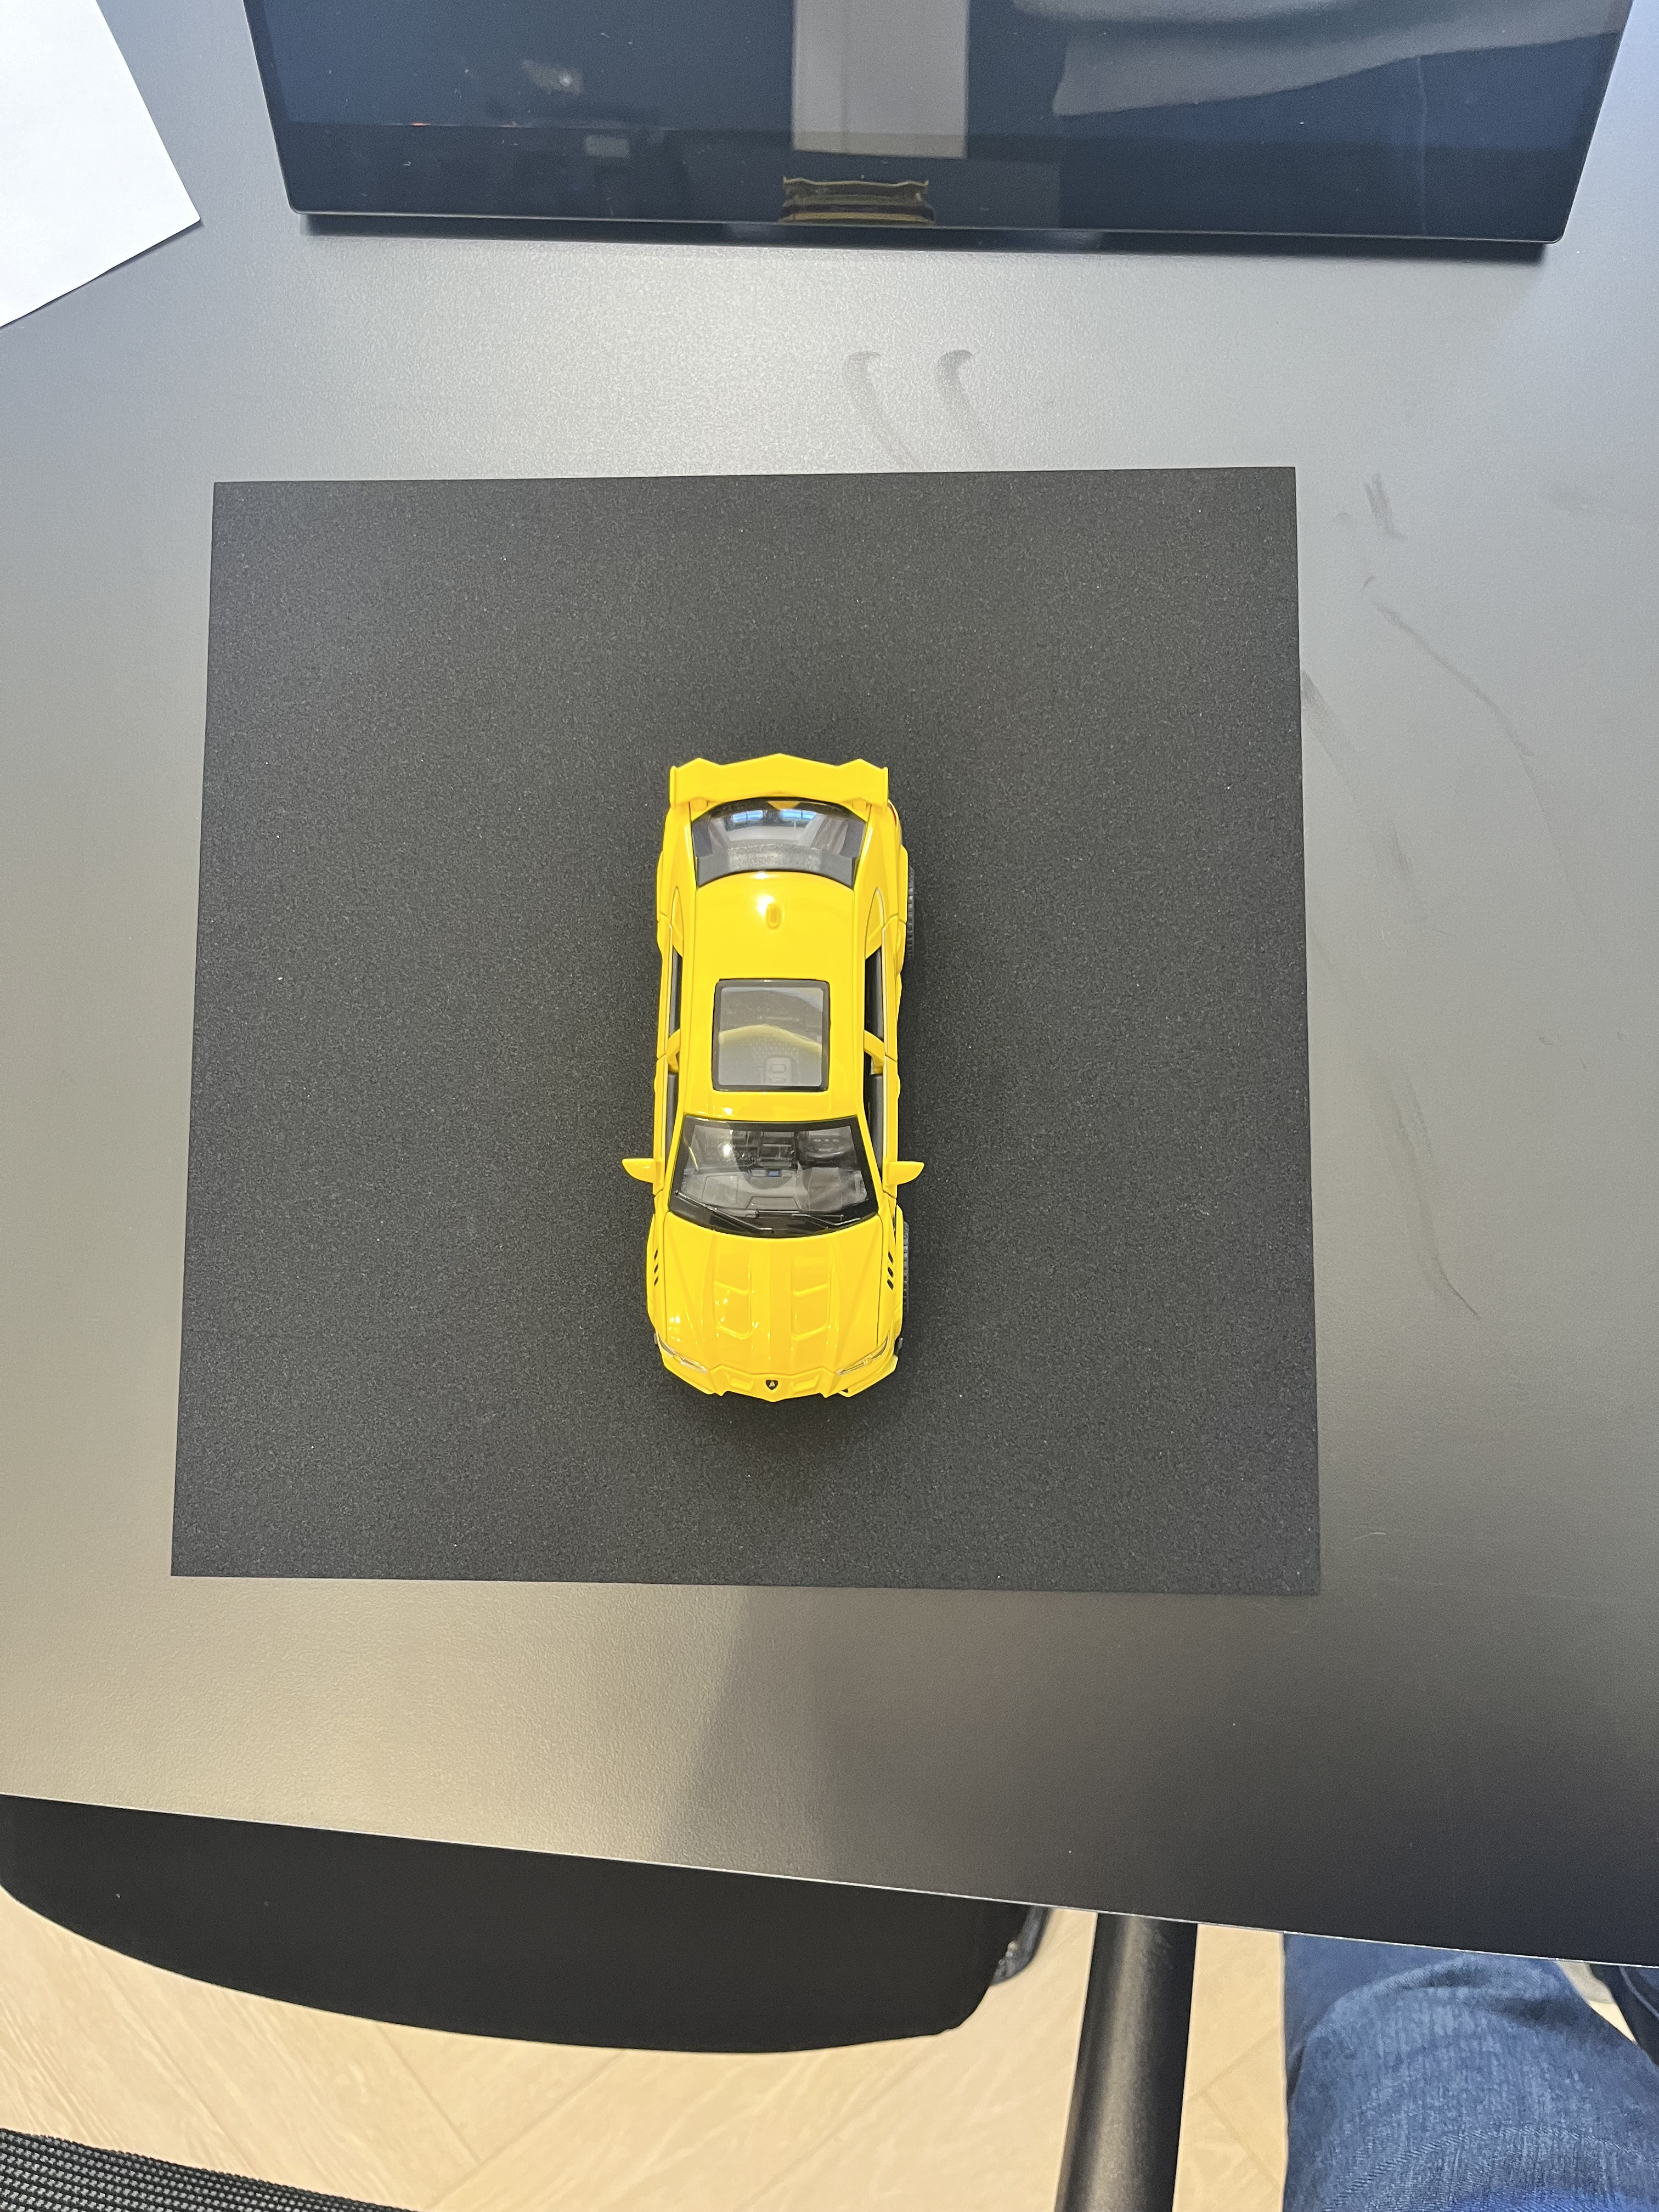lambo: (617, 747, 927, 1400)
